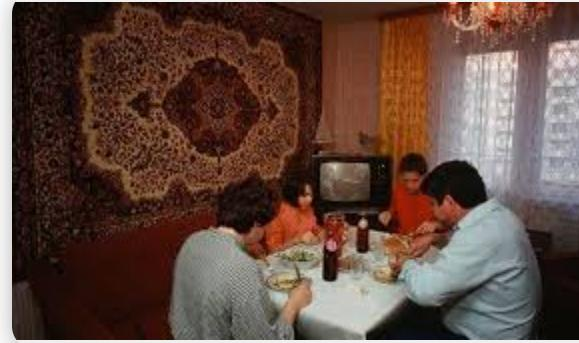carpet: (12, 3, 321, 260)
